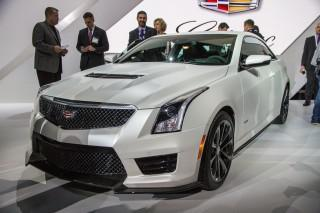cadillac: (58, 106, 81, 122)
